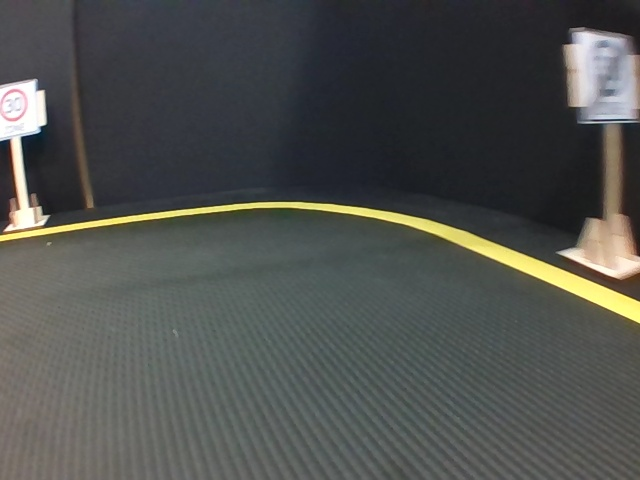30: (1, 83, 36, 132)
no30: (576, 30, 639, 123)
